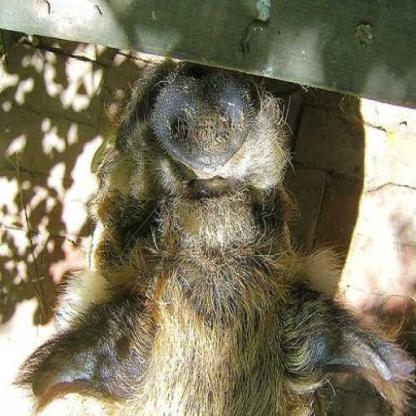boar: (37, 95, 391, 416)
